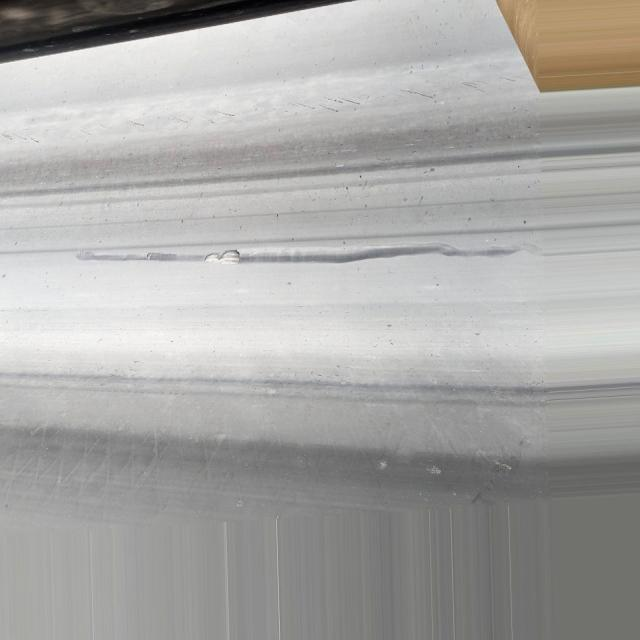Tear: (202, 246, 242, 266)
impact damage: (74, 237, 519, 268)
